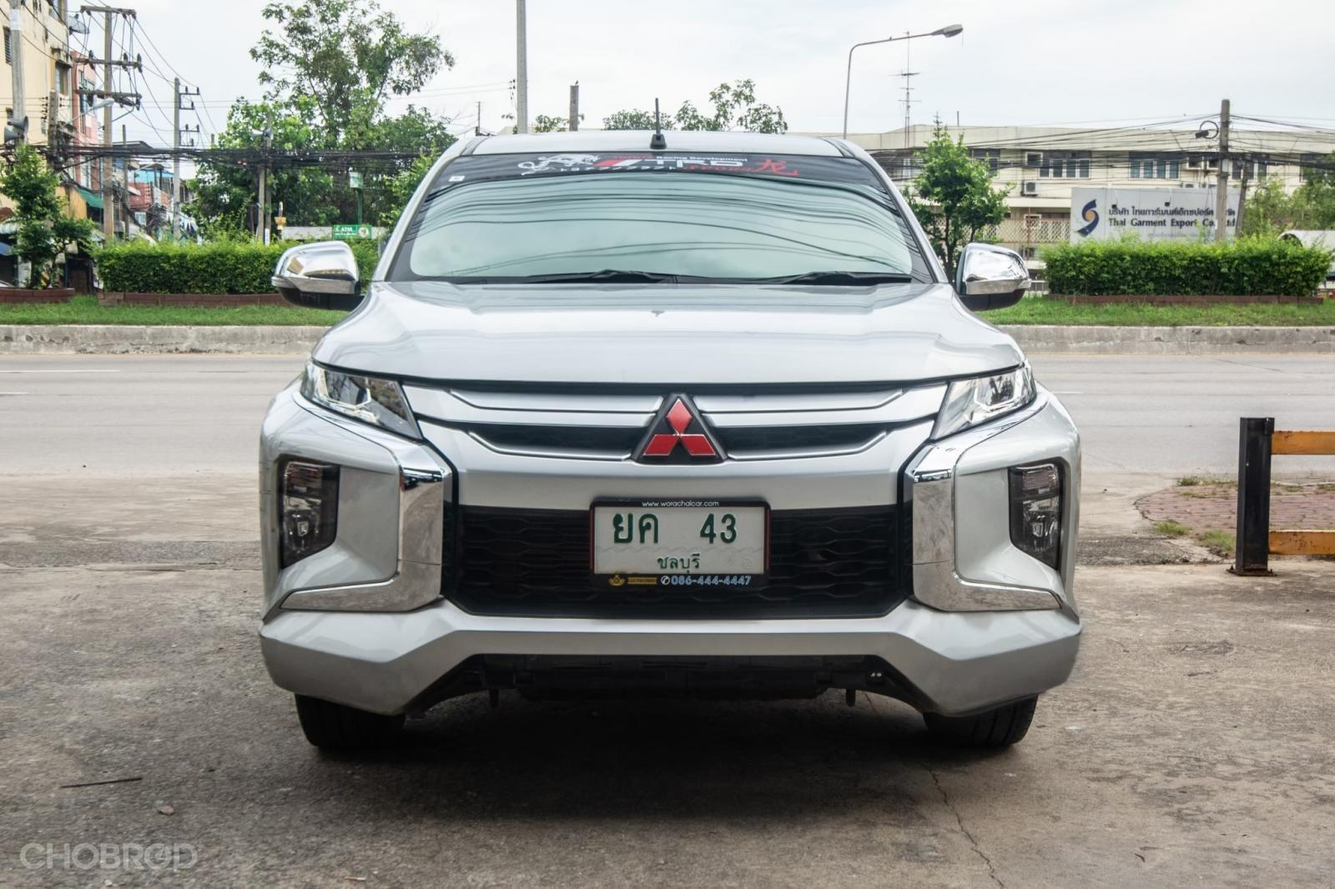license-plate: (592, 498, 772, 588)
